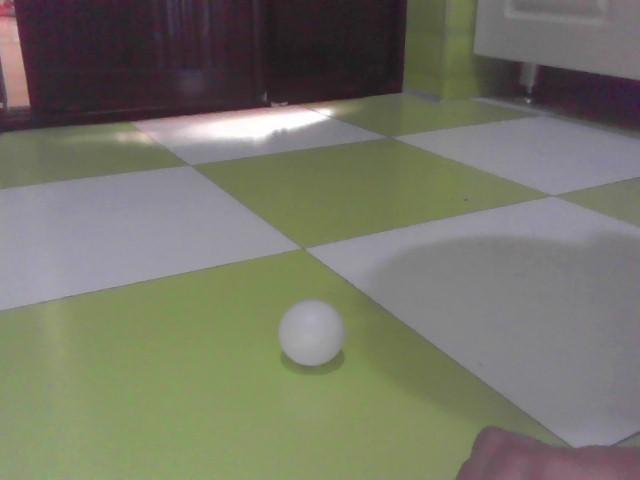ball: (278, 299, 345, 366)
